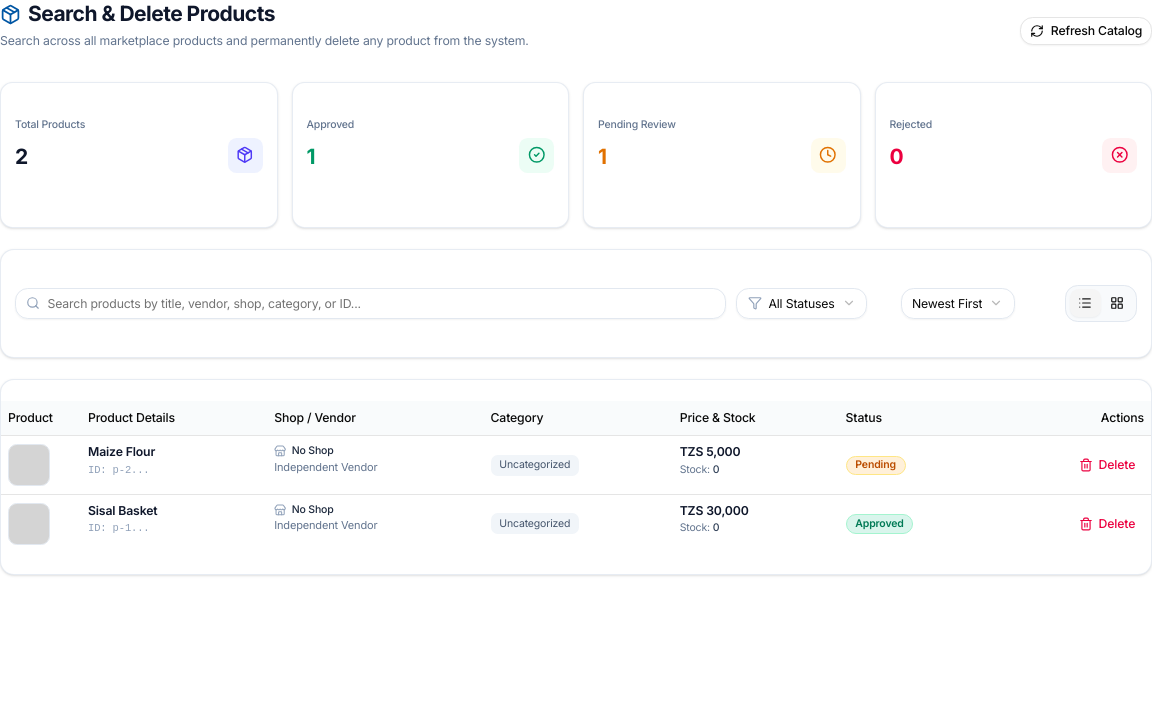
Test case: ProductManagementTab › deletes the product that was clicked and shows a success notice
Click the button "Delete" in the row of "Maize Flour" at {"x": 1107, "y": 465}, box [1071,451,1144,479]
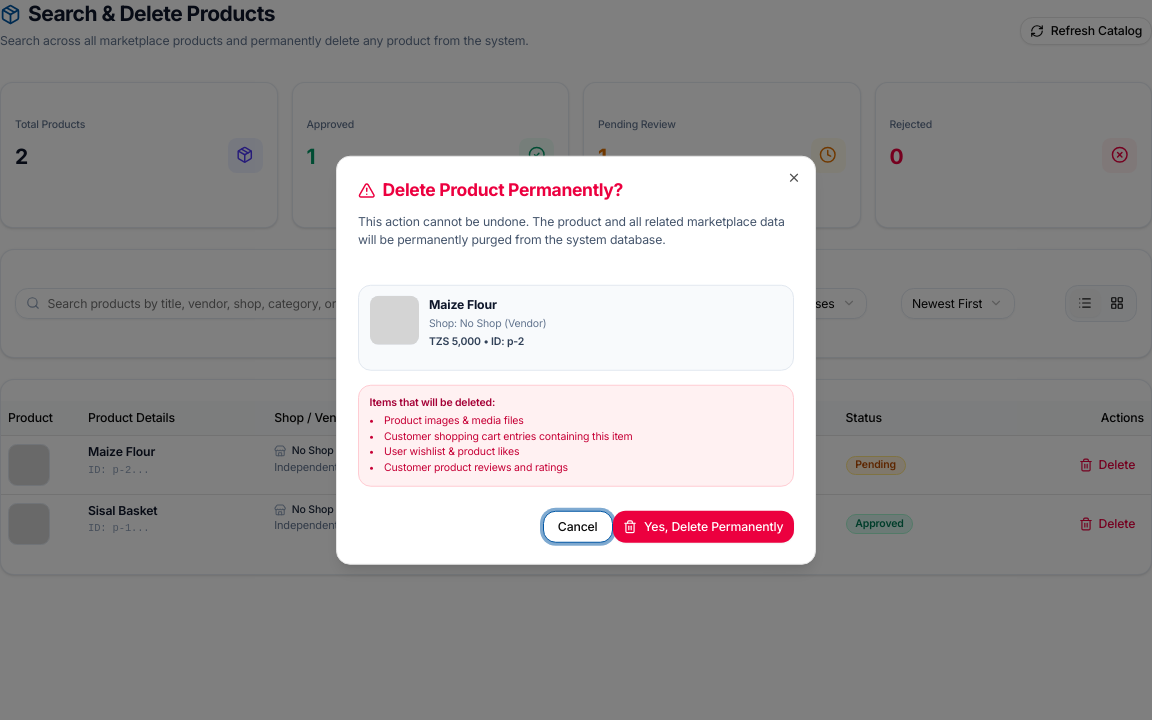
expect the heading "Delete Product Permanently?" is shown: met, box [358,179,623,200]
Click the button "Yes, Delete Permanently" at {"x": 703, "y": 527}, box [613,511,794,542]
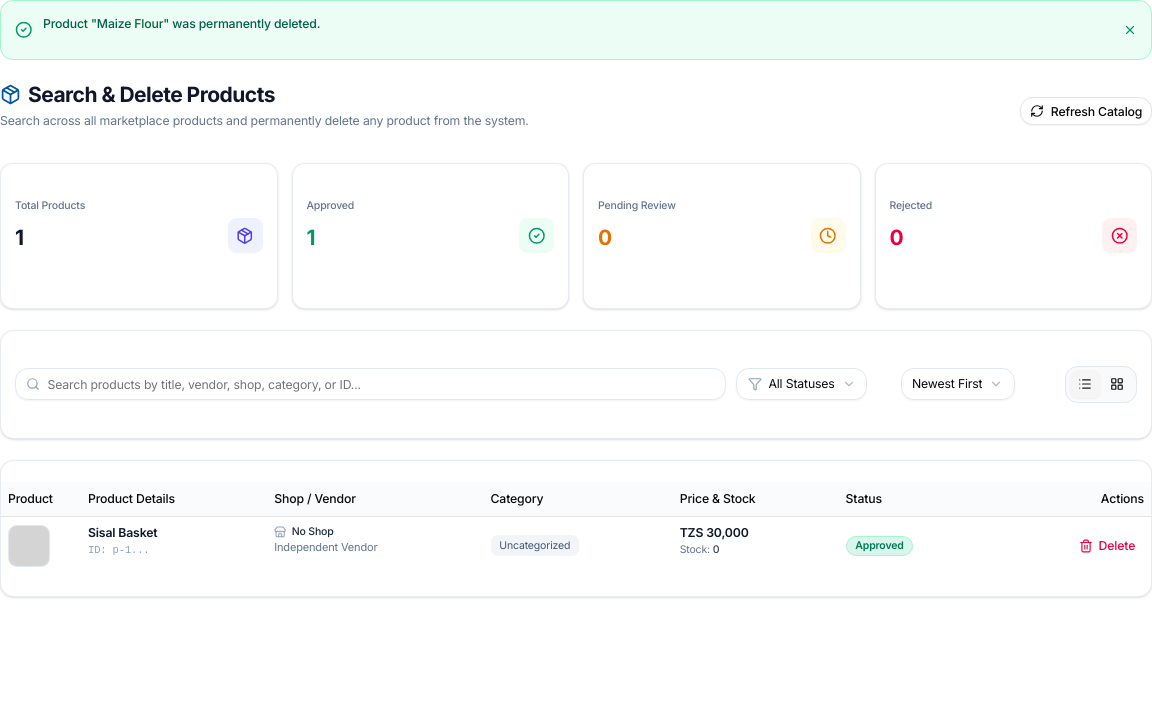
expect the text "Product \"Maize Flour\" was permanently deleted." is shown: met, box [43,15,320,32]
